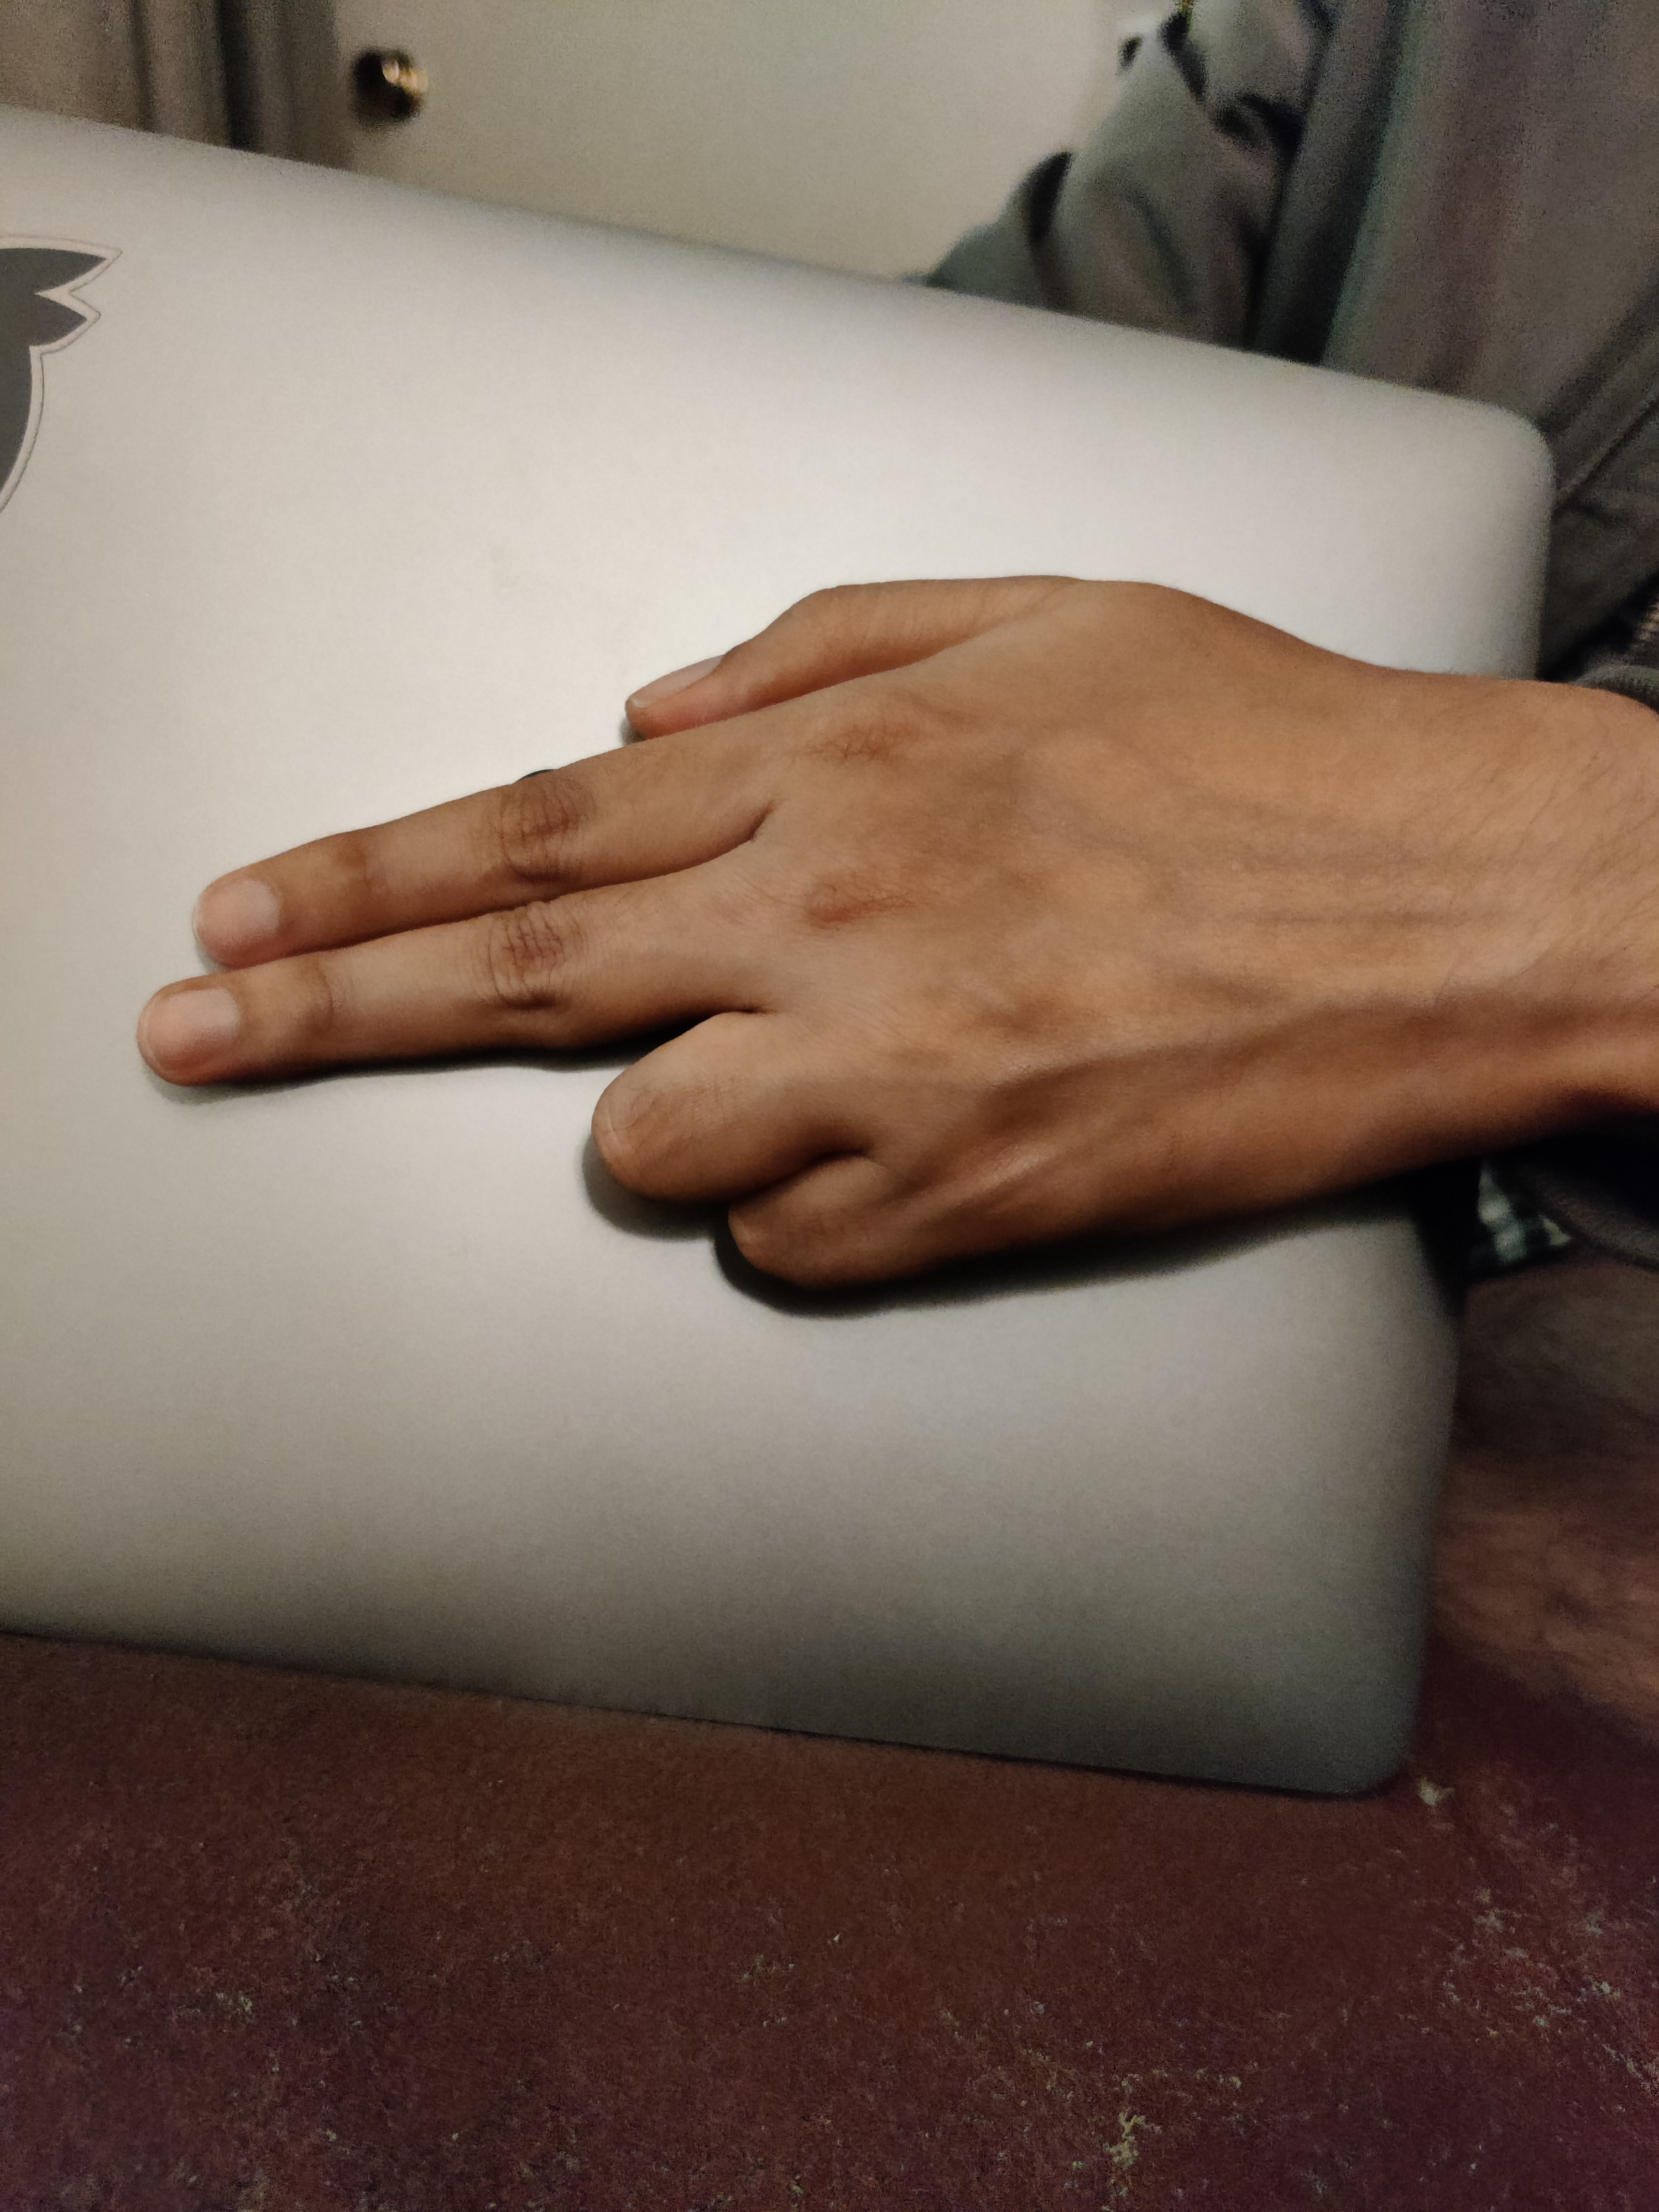right: (51, 486, 1582, 1571)
